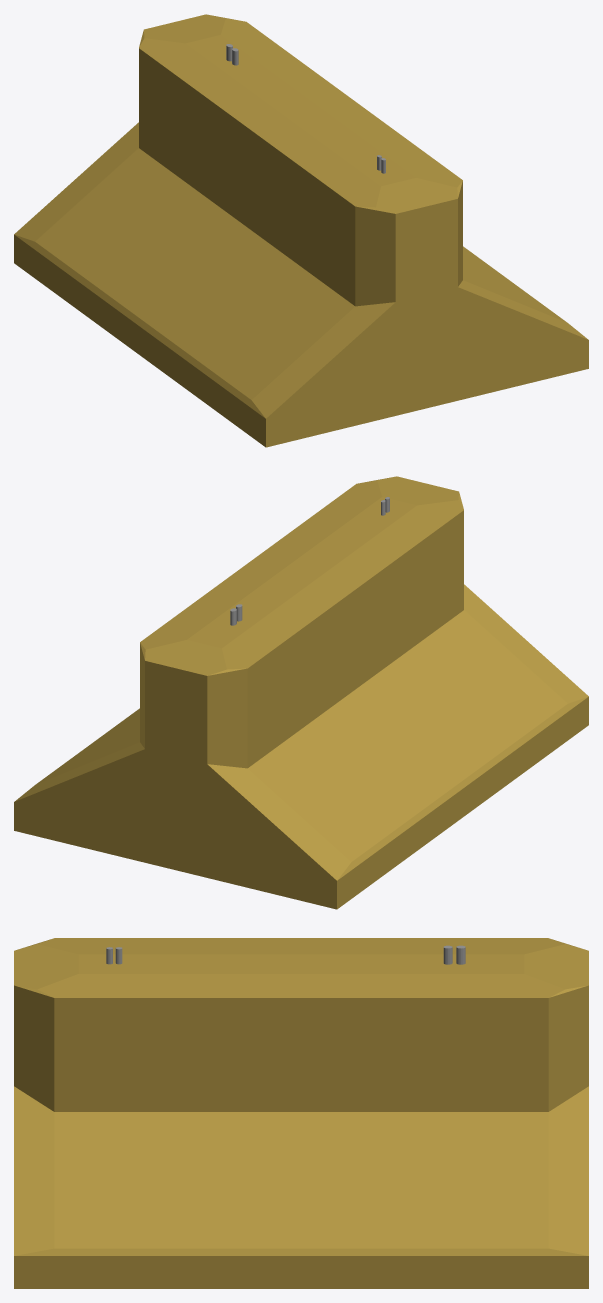
File: BlockObst.fbx
The picture shows the model from 3 angles, top to bottom: view 1: azimuth 30°, elevation 25°; view 2: azimuth 150°, elevation 25°; view 3: azimuth 270°, elevation 25°; orthographic projection. The views are drawn at different scales.
Visible parts, largest first — view 1: Cube; view 2: Cube; view 3: Cube.
Part boxes in pixels (left/top/right/bottom): Cube: left=14, top=14, right=588, bottom=447; Cube: left=14, top=476, right=588, bottom=909; Cube: left=14, top=938, right=588, bottom=1288.
Bounding box in the file's own units: 523 × 340 × 706.
